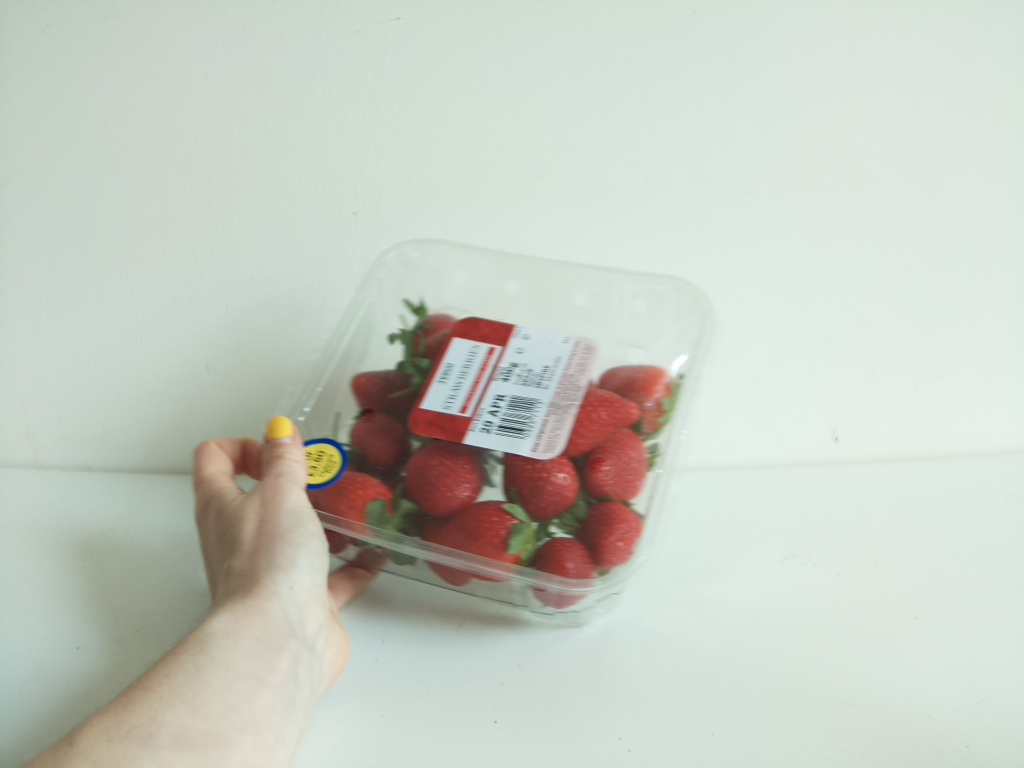soft-fruit: (261, 235, 717, 645)
